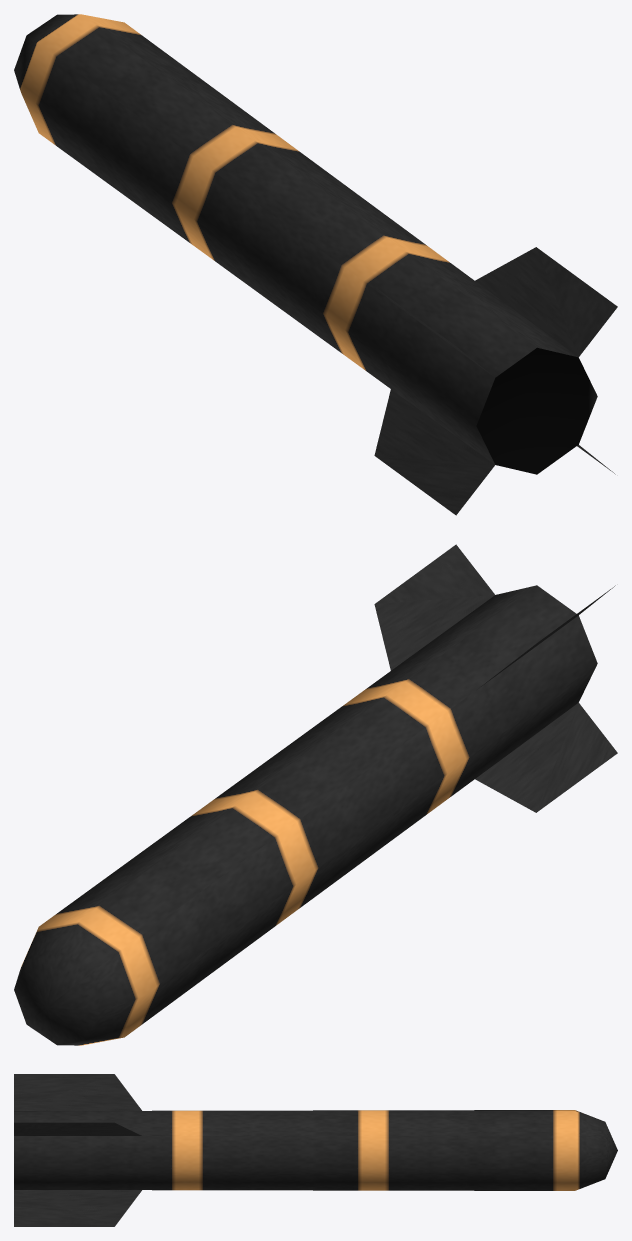
The model's file is Drone_Missile.fbx.
3 views of the same model, one above another, from view 1: azimuth 30°, elevation 25°; view 2: azimuth 150°, elevation 25°; view 3: azimuth 270°, elevation 25° (orthographic). The views are drawn at different scales.
Visible parts, largest first — view 1: polySurface559; view 2: polySurface559; view 3: polySurface559.
Part boxes in pixels (x1,y1,x2,y2): polySurface559: (14,14,617,515); polySurface559: (14,544,617,1045); polySurface559: (14,1074,617,1226).
Size of the model in its own units: 3.6 by 3.6 by 18.9.
1 material, 1 textured.
